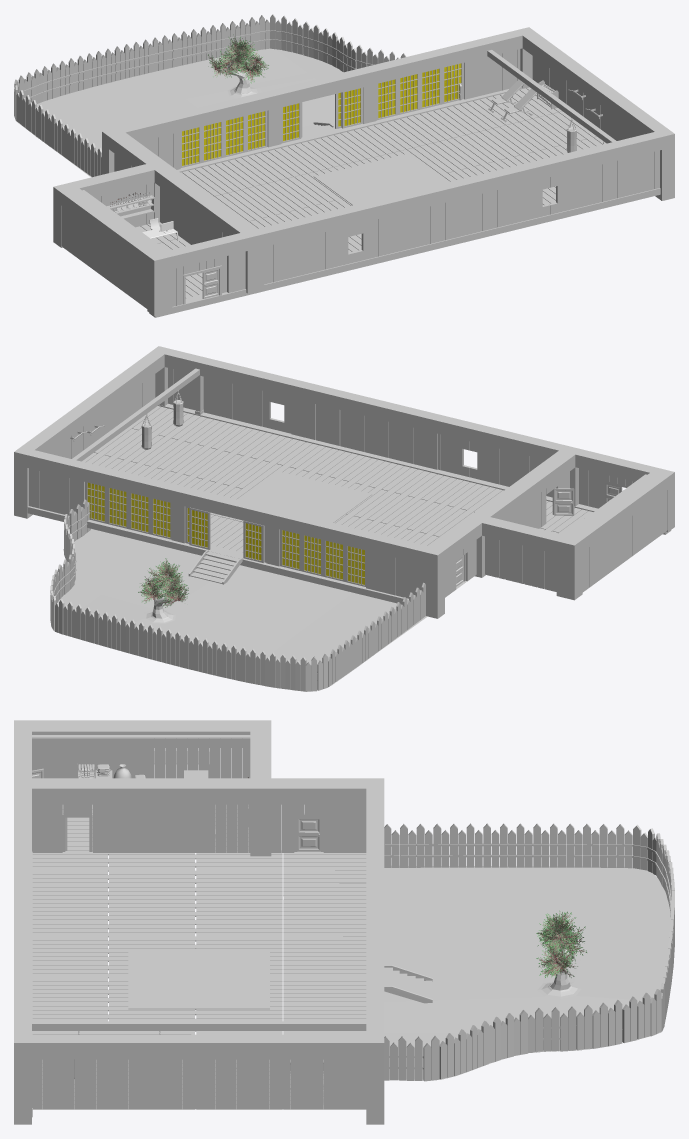
File: DojoEnvironment.fbx
3 renders of one model, top to bottom at view 1: azimuth 30°, elevation 25°; view 2: azimuth 150°, elevation 25°; view 3: azimuth 270°, elevation 25°, orthographic. The views are drawn at different scales.
Parts seen in each view (by area): view 1: Cube.012, Plane, Cube.028, Cube.068, Branch.128, Cube.083, Cube.043, Cube.039, Cube.041, Cube.033, Cube.035, Cube.031 (+5 smaller); view 2: Cube.012, Plane, Cube.069, Cube.028, Cube.068, Branch.128, Cube.035, Door.001, Cube.031, Cube.039, Cube.025, Cube.045 (+4 smaller); view 3: Cube.012, Plane, Cube.028, Branch.128, Door.002, Cube.161.
Boxes of the visible parts, x1=… form: Cube.012: x1=14, y1=14, x2=674, y2=316; Plane: x1=17, y1=48, x2=343, y2=177; Cube.028: x1=313, y1=153, x2=449, y2=205; Cube.068: x1=149, y1=188, x2=660, y2=317; Branch.128: x1=208, y1=34, x2=268, y2=83; Cube.083: x1=107, y1=195, x2=154, y2=219; Cube.043: x1=226, y1=116, x2=242, y2=155; Cube.039: x1=204, y1=122, x2=220, y2=160; Cube.041: x1=182, y1=127, x2=198, y2=165; Cube.033: x1=378, y1=79, x2=395, y2=118; Cube.035: x1=422, y1=69, x2=439, y2=107; Cube.031: x1=400, y1=74, x2=417, y2=112; Cube.012: x1=14, y1=346, x2=674, y2=691; Plane: x1=52, y1=529, x2=427, y2=689; Cube.069: x1=291, y1=398, x2=437, y2=469; Cube.028: x1=237, y1=471, x2=371, y2=522; Cube.068: x1=158, y1=403, x2=671, y2=534; Branch.128: x1=138, y1=558, x2=188, y2=607; Cube.035: x1=109, y1=488, x2=126, y2=526; Door.001: x1=554, y1=488, x2=574, y2=515; Cube.031: x1=131, y1=493, x2=148, y2=531; Cube.039: x1=326, y1=541, x2=342, y2=579; Cube.025: x1=245, y1=523, x2=261, y2=560; Cube.045: x1=282, y1=530, x2=299, y2=568; Cube.012: x1=14, y1=720, x2=674, y2=1124; Plane: x1=384, y1=866, x2=670, y2=1079; Cube.028: x1=128, y1=949, x2=269, y2=1009; Branch.128: x1=536, y1=910, x2=586, y2=977; Door.002: x1=297, y1=817, x2=320, y2=851; Cube.161: x1=32, y1=735, x2=250, y2=738.
Bounding box in the file's own units: 4308 × 521 × 3731.
